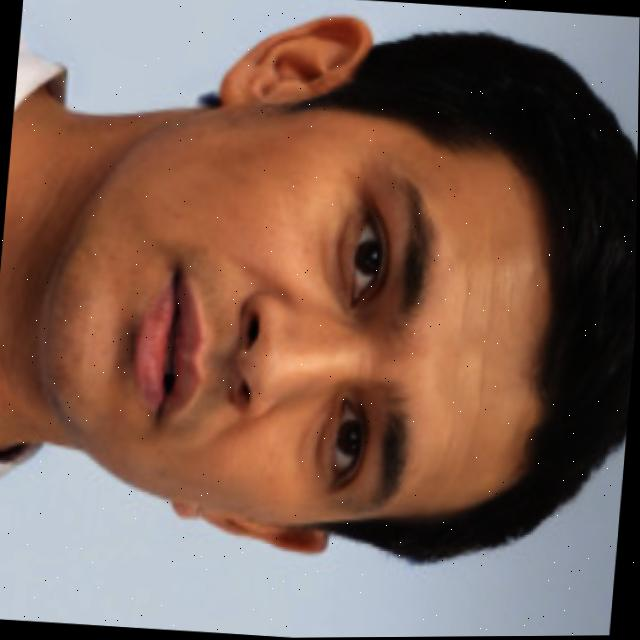natural: (15, 0, 640, 570)
